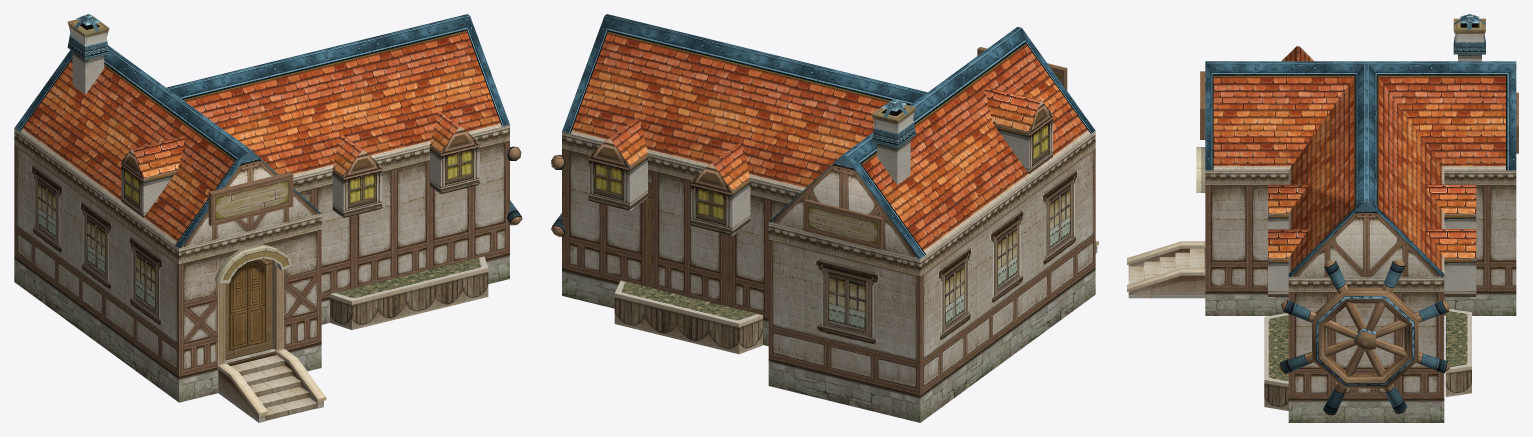
The picture shows the model from 3 angles, left to right: view 1: azimuth 30°, elevation 25°; view 2: azimuth 150°, elevation 25°; view 3: azimuth 270°, elevation 25°; orthographic projection. The views are drawn at different scales.
Visible parts, largest first — view 1: geom_node_2, geom_node_1, geom_node_0; view 2: geom_node_2, geom_node_0, geom_node_1; view 3: geom_node_2, geom_node_1, geom_node_0.
Part boxes in pixels (x1=…): geom_node_2: x1=166, y1=14, x2=522, y2=329; geom_node_1: x1=116, y1=89, x2=326, y2=422; geom_node_0: x1=14, y1=14, x2=167, y2=355; geom_node_2: x1=551, y1=14, x2=927, y2=354; geom_node_0: x1=768, y1=92, x2=1028, y2=422; geom_node_1: x1=928, y1=27, x2=1098, y2=343; geom_node_2: x1=1264, y1=63, x2=1476, y2=422; geom_node_1: x1=1127, y1=46, x2=1365, y2=315; geom_node_0: x1=1364, y1=14, x2=1518, y2=315.
Size of the model in its own units: 9.7 by 6.47 by 8.87.
11 materials, 11 textured.
